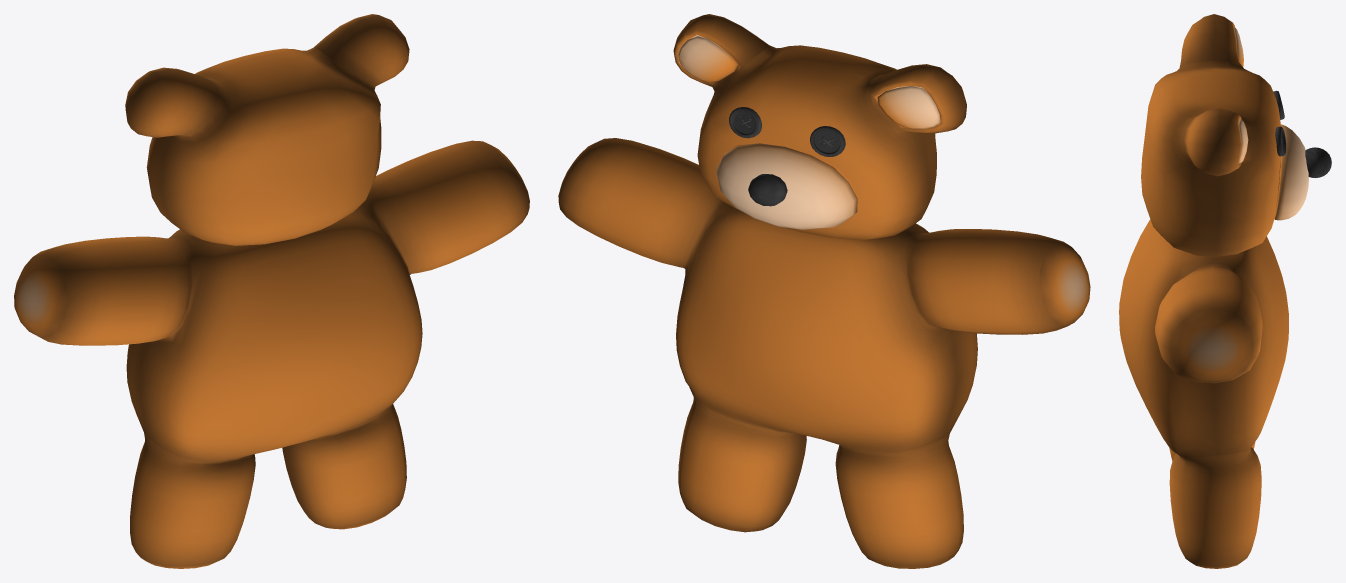
The model's file is taddybackpack.dae.
The picture shows the model from 3 angles, left to right: view 1: azimuth 30°, elevation 25°; view 2: azimuth 150°, elevation 25°; view 3: azimuth 270°, elevation 25°; orthographic projection. The views are drawn at different scales.
Visible parts, largest first — view 1: teddybear6_teddybear; view 2: teddybear6_teddybear, teddybear6_teddybear3_nose, teddybear6_teddybear3_L_button, teddybear6_teddybear3_R_button; view 3: teddybear6_teddybear, teddybear6_teddybear3_nose, teddybear6_teddybear3_R_button.
Part boxes in pixels (x1,y1,x2,y2): teddybear6_teddybear: (14, 14, 529, 568); teddybear6_teddybear: (558, 14, 1090, 568); teddybear6_teddybear3_nose: (748, 174, 787, 206); teddybear6_teddybear3_L_button: (810, 126, 845, 156); teddybear6_teddybear3_R_button: (729, 107, 761, 138); teddybear6_teddybear: (1119, 14, 1308, 568); teddybear6_teddybear3_nose: (1305, 147, 1331, 177); teddybear6_teddybear3_R_button: (1275, 126, 1286, 156).
Size of the model in its own units: 0.5795 by 0.5513 by 0.2324.
4 materials, 4 textured.
